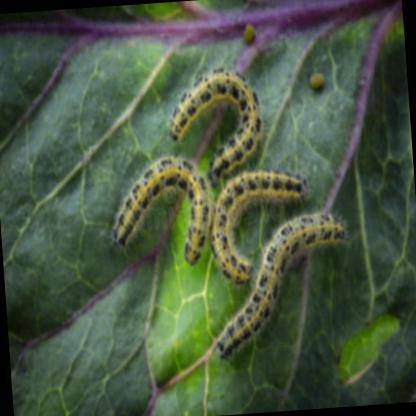pieris: (214, 213, 348, 362), (210, 173, 303, 285), (169, 70, 260, 184), (112, 155, 208, 263)
